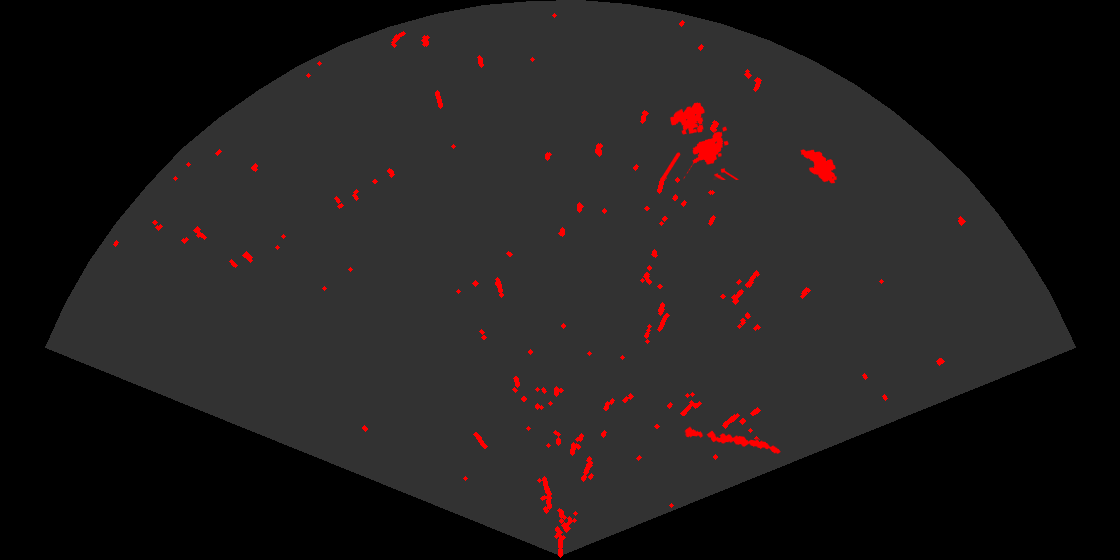AUV: (799, 148, 838, 185)
cage: (659, 101, 740, 180)
chain: (682, 425, 782, 455)
